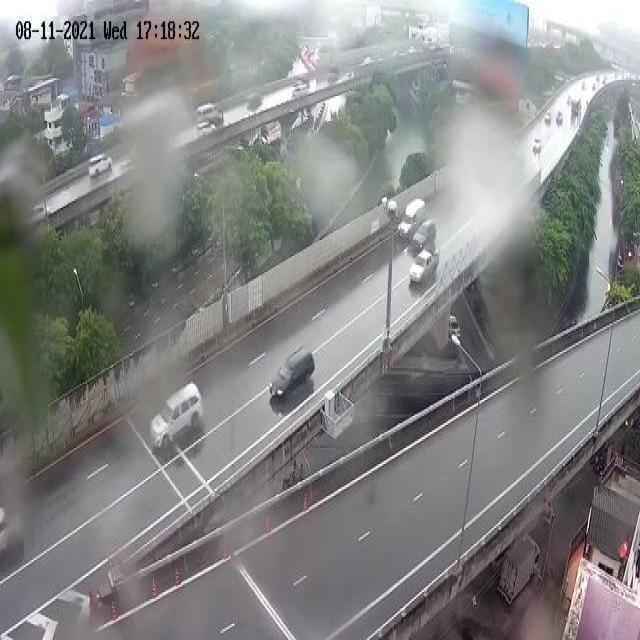Car: (151, 383, 201, 451), (268, 347, 314, 405), (411, 218, 435, 256), (446, 315, 461, 341), (292, 84, 310, 98), (532, 134, 542, 154)
Truck: (498, 536, 540, 602), (408, 252, 438, 290)
Van: (399, 199, 425, 245), (88, 154, 112, 178), (196, 103, 218, 126)
